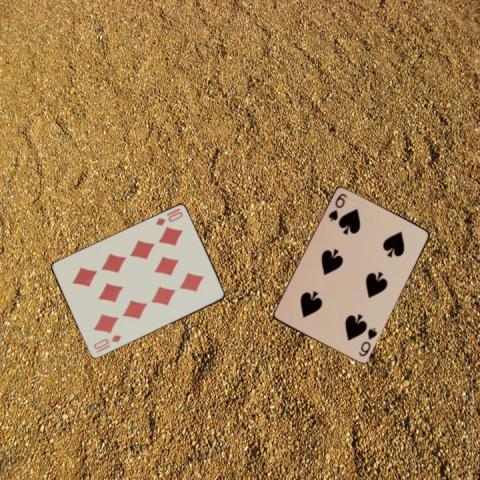10d: (90, 332, 122, 351), (153, 209, 184, 227)
6s: (355, 325, 379, 358), (325, 191, 349, 222)
